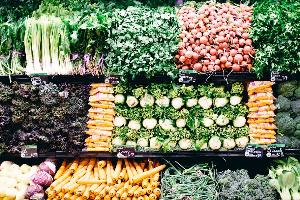carrot: (45, 154, 163, 200), (85, 80, 115, 154), (250, 78, 274, 150)
